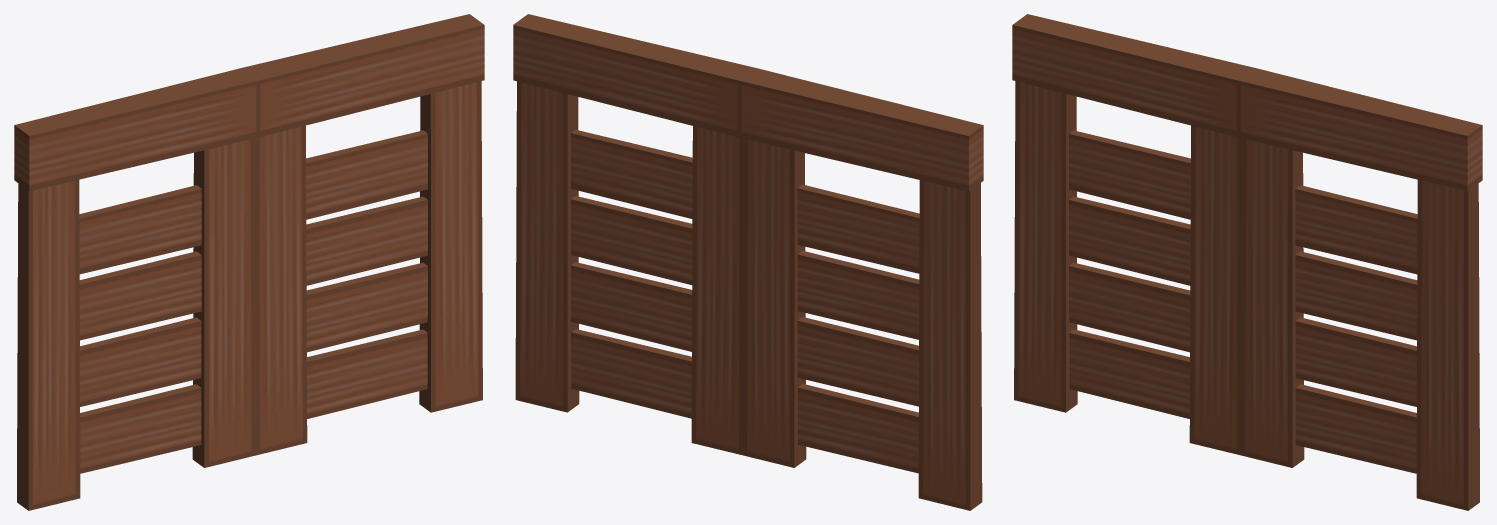
Rendered from HardWoodGateHand.fbx.
3 views of the same model, side by side, from view 1: azimuth 30°, elevation 25°; view 2: azimuth 150°, elevation 25°; view 3: azimuth 330°, elevation 25° (orthographic).
Visible parts, largest first — view 1: FencePost, FencePost (1); view 2: FencePost, FencePost (1); view 3: FencePost (1), FencePost.
Part boxes in pixels (bbox=[...]): FencePost: bbox=[14, 68, 259, 510]; FencePost (1): bbox=[240, 14, 484, 455]; FencePost: bbox=[738, 68, 983, 510]; FencePost (1): bbox=[513, 14, 757, 455]; FencePost (1): bbox=[1237, 68, 1482, 510]; FencePost: bbox=[1012, 14, 1256, 455].
Size of the model in its own units: 1.19 by 0.9397 by 0.079.
